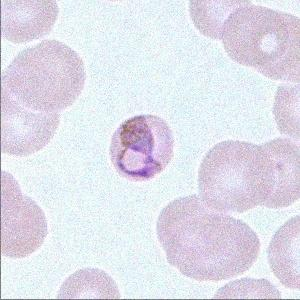Infected: (107, 113, 173, 181)
Uninfected: (168, 212, 258, 280), (4, 41, 86, 112), (196, 139, 273, 211), (0, 75, 59, 155), (155, 196, 221, 265), (222, 3, 287, 65), (248, 10, 300, 82), (0, 0, 58, 39)
